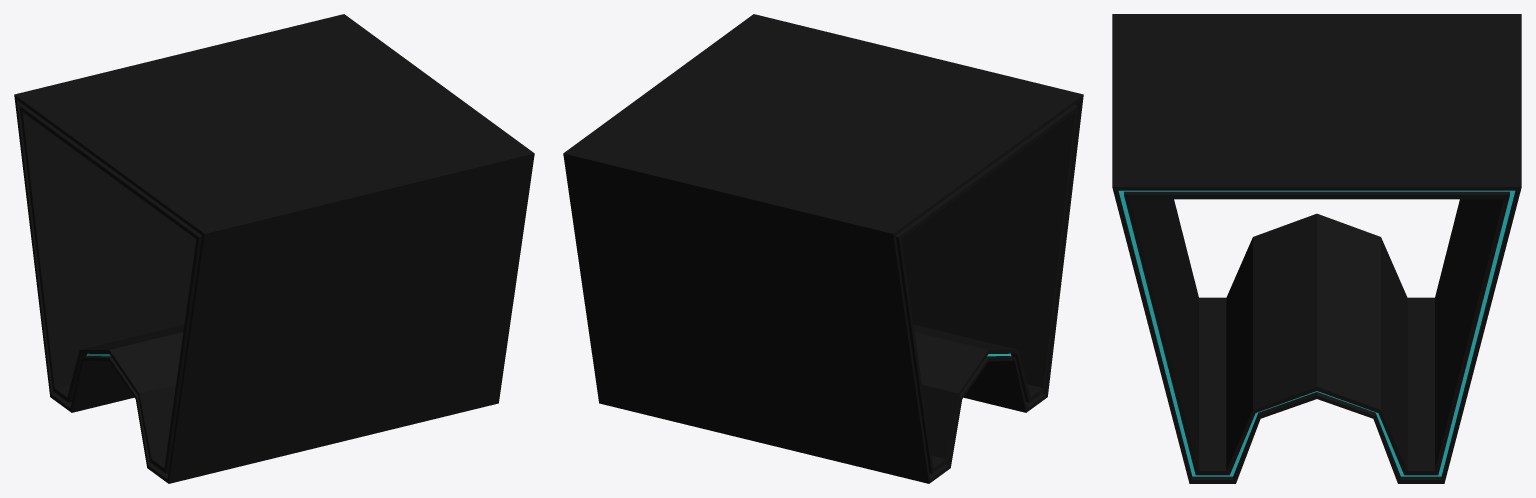
Rendered from SM_High_Table_01.fbx.
The picture shows the model from 3 angles, left to right: view 1: azimuth 30°, elevation 25°; view 2: azimuth 150°, elevation 25°; view 3: azimuth 270°, elevation 25°; orthographic projection. The views are drawn at different scales.
Parts seen in each view (by area): view 1: LowTable_H; view 2: LowTable_H; view 3: LowTable_H.
Boxes of the visible parts, x1=… form: LowTable_H: x1=14, y1=14, x2=534, y2=483; LowTable_H: x1=563, y1=14, x2=1083, y2=483; LowTable_H: x1=1112, y1=14, x2=1521, y2=483.
Bounding box in the file's own units: 100 × 80 × 100.
